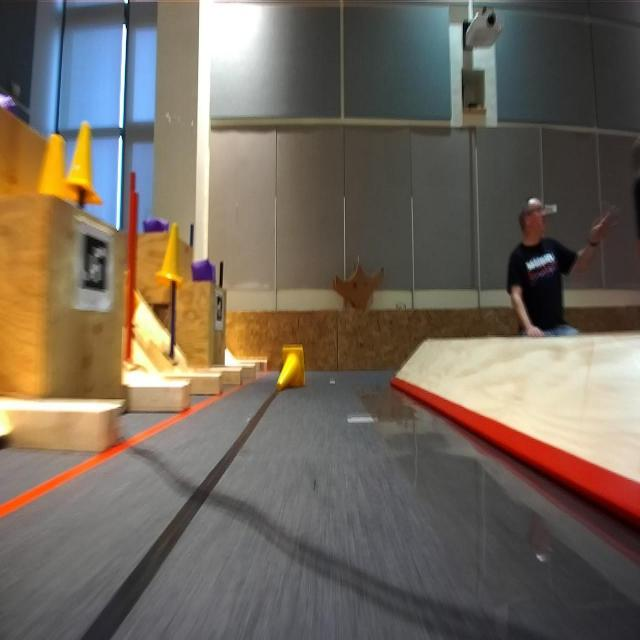frc_cone: (67, 121, 101, 200), (36, 129, 70, 203), (156, 220, 184, 288), (274, 344, 307, 389)
frc_cube: (191, 254, 216, 284), (142, 218, 168, 234)
